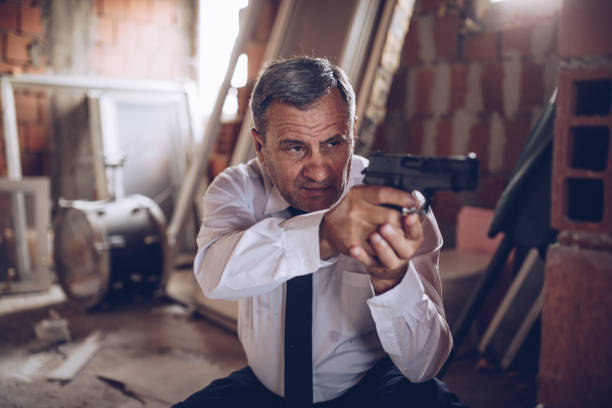gun: (359, 152, 480, 218)
